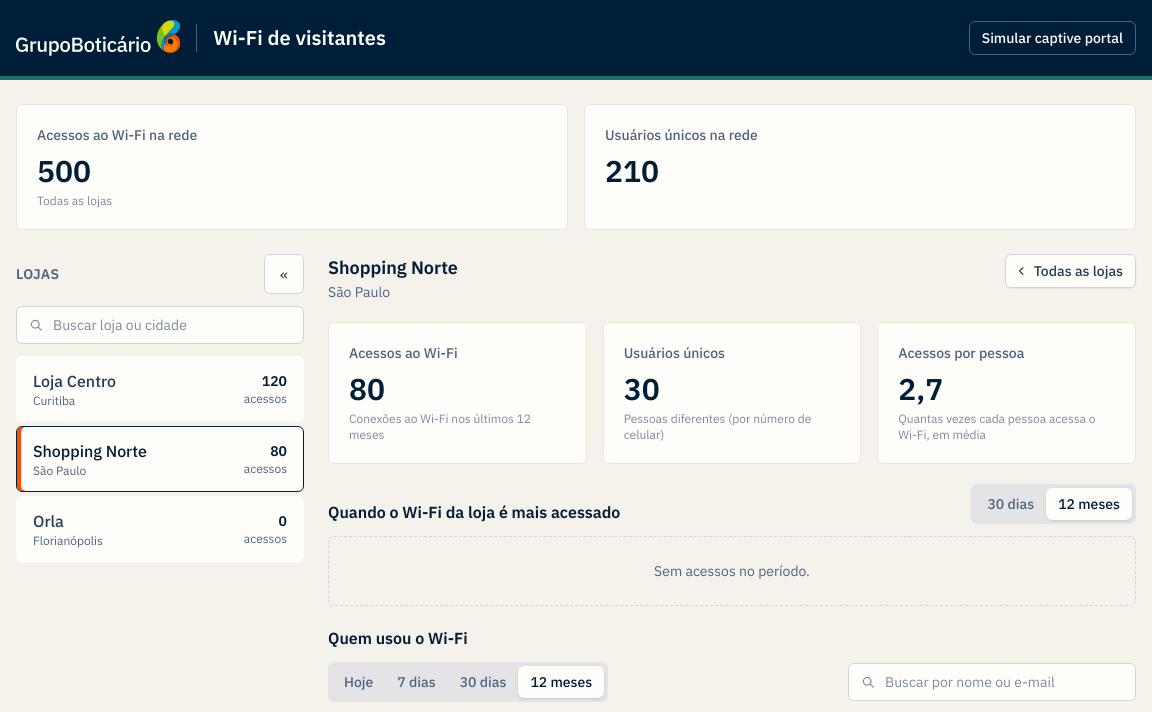
Test: DashboardPage: loja selecionada › recolhe e mostra de novo a lista de lojas
The image size is (1152, 712).
Expected: the tab "Shopping Norte São Paulo 80 acessos" is shown, [16,426,304,492]
Click the button named "Recolher lista de lojas".
click(284, 274)  # box [264,254,304,294]
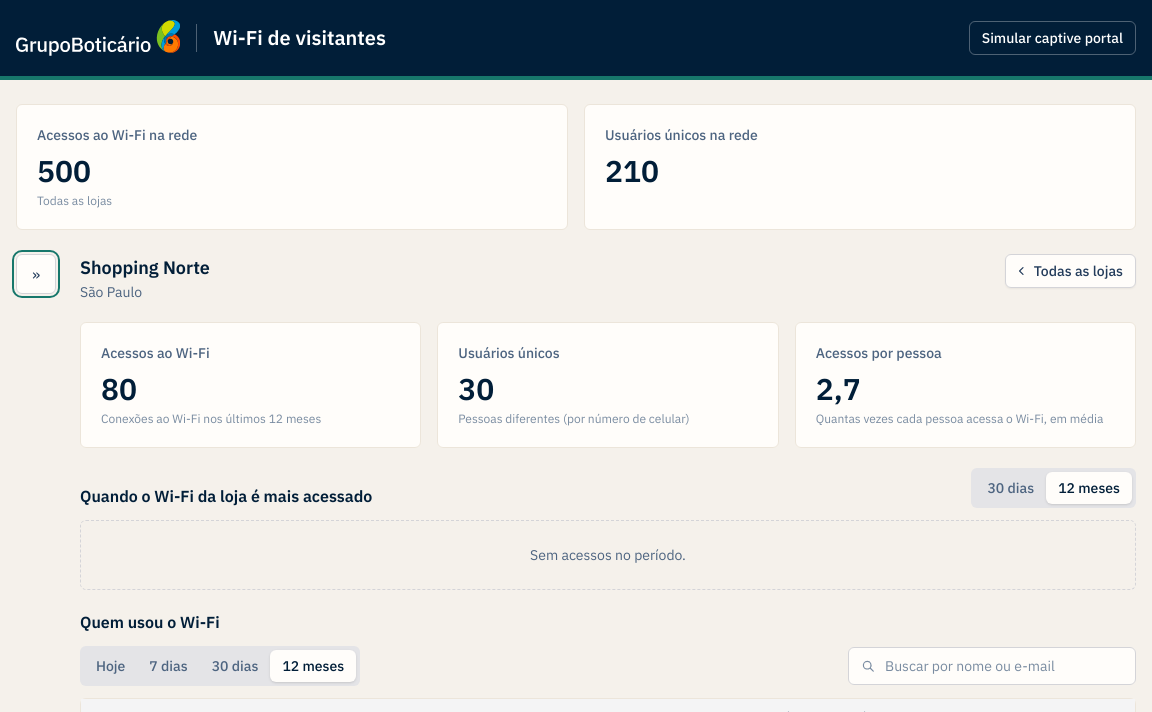
Now the button named "Mostrar lista de lojas" is collapsed
Click the button named "Mostrar lista de lojas".
click(36, 274)  # box [16,254,56,294]
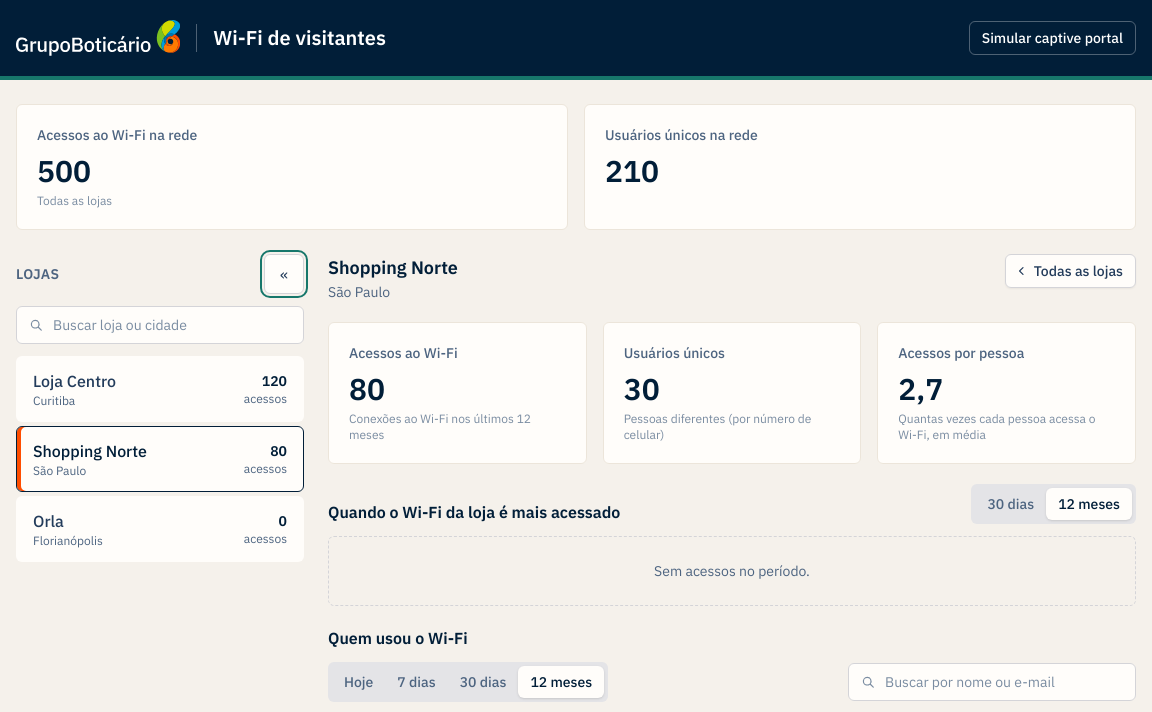
Now the tab "Shopping Norte São Paulo 80 acessos" is shown, box [16,426,304,492]
